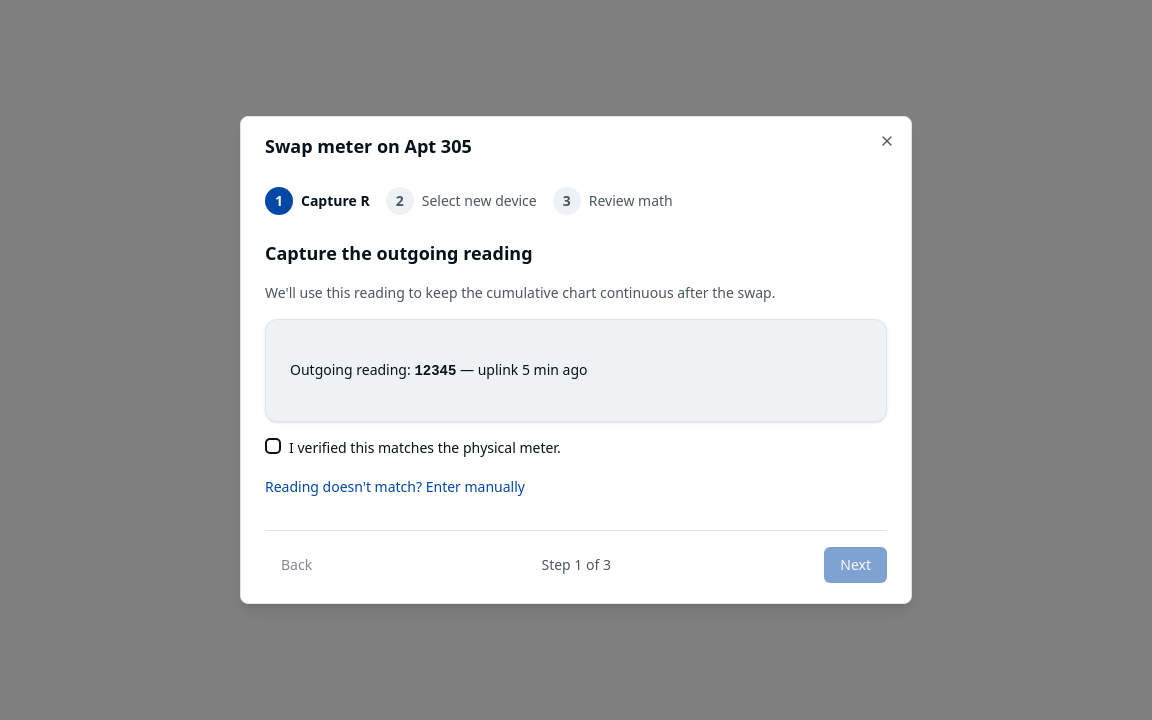
Test: SwapMeterDialog (Plan 02-14 / D-12 + D-13 + D-14) › step 3 renders the math read-back panel with R, N, and proposed offset
Expected: the text "Outgoing reading: 12345 — uplink 5 min ago" is shown, [290, 360, 588, 379]
Click the checkbox named "I verified this matches the physical meter".
click(273, 446)  # box [265, 438, 281, 454]
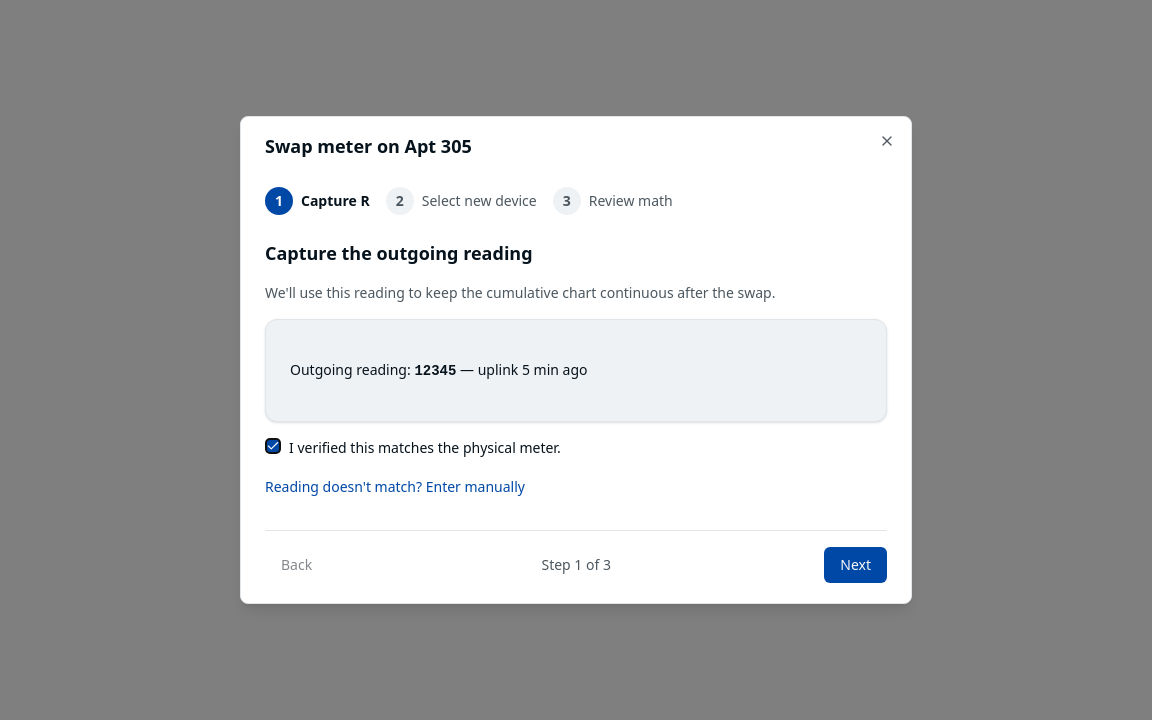
Click the button "Next".
click(856, 565)  # box [824, 547, 887, 583]
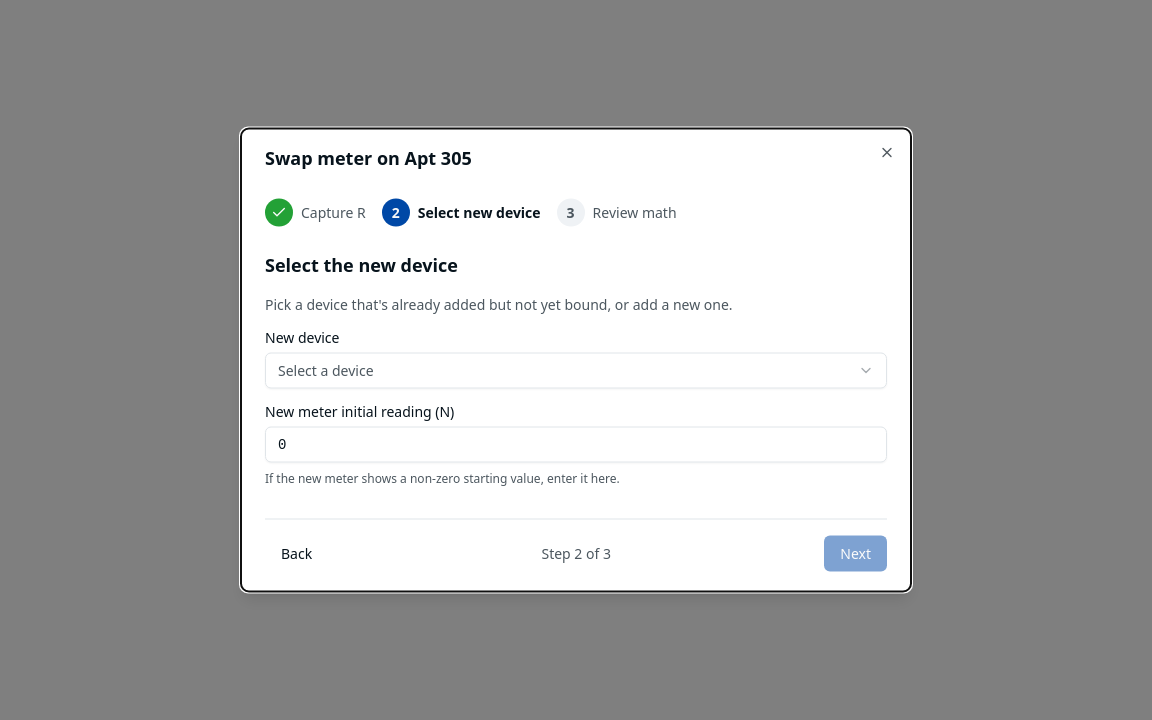
Expected: the heading "Select the new device" is shown, [265, 252, 458, 276]
Click the dropdown named "New device".
click(326, 370)  # box [265, 352, 887, 388]
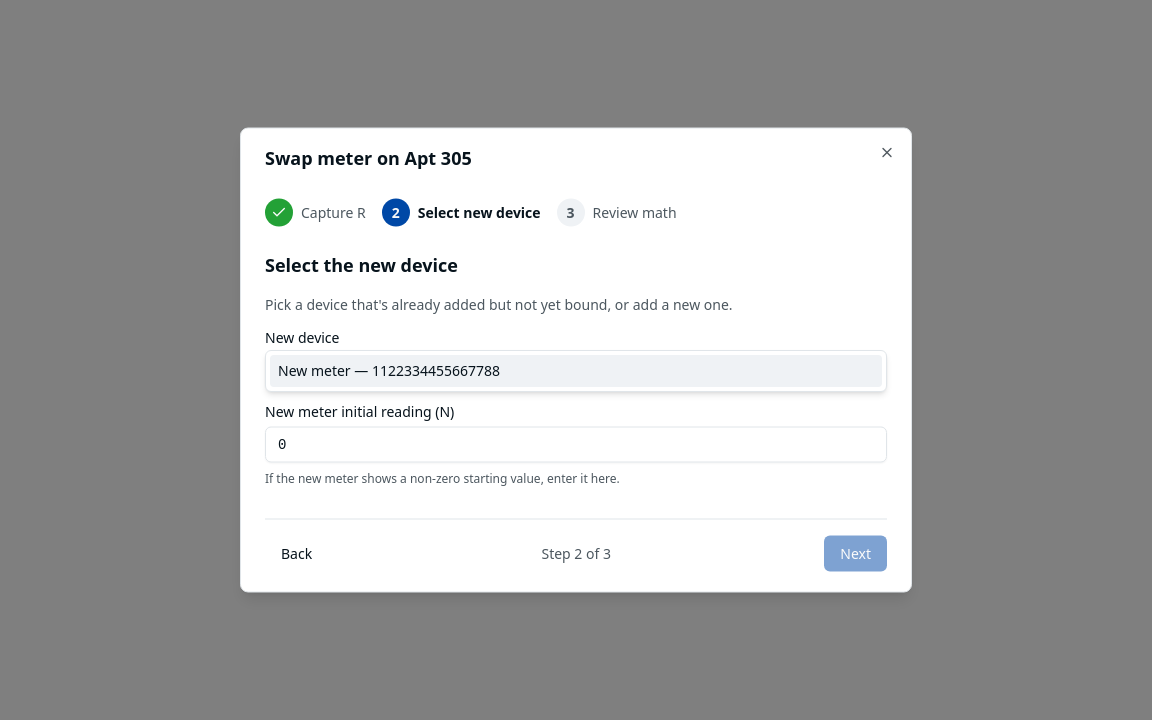
Click the option "New meter — 1122334455667788".
click(314, 370)  # box [270, 354, 882, 386]
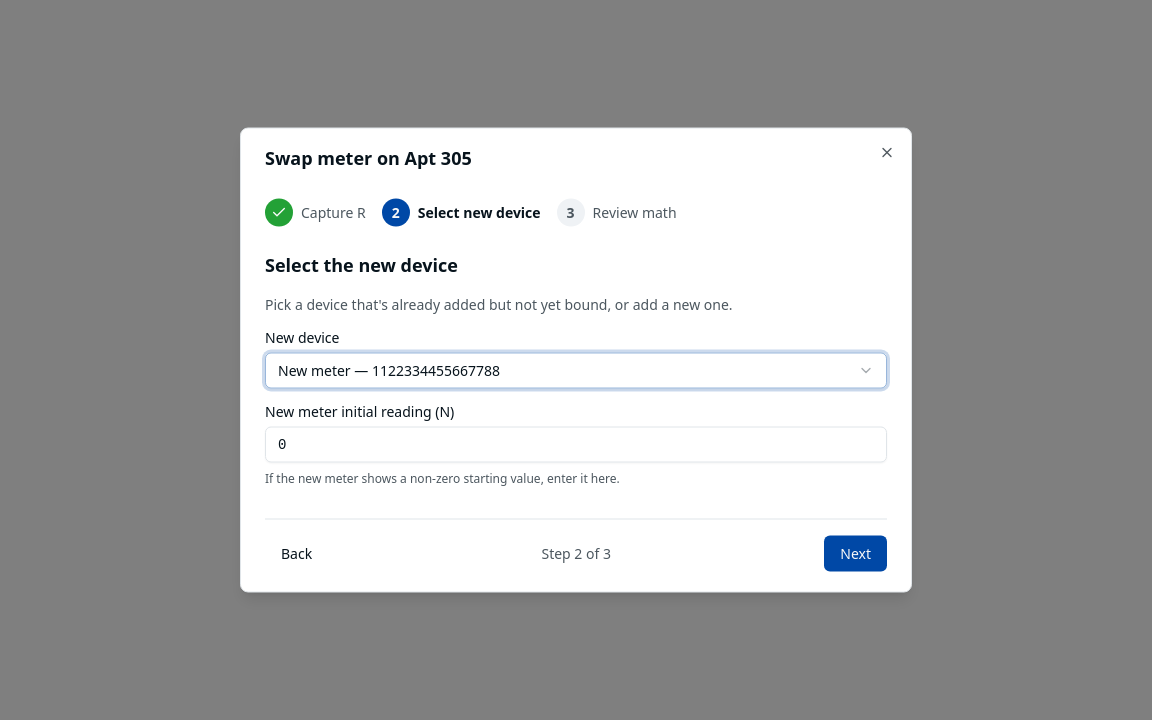
Click the button "Next".
click(856, 554)  # box [824, 536, 887, 572]
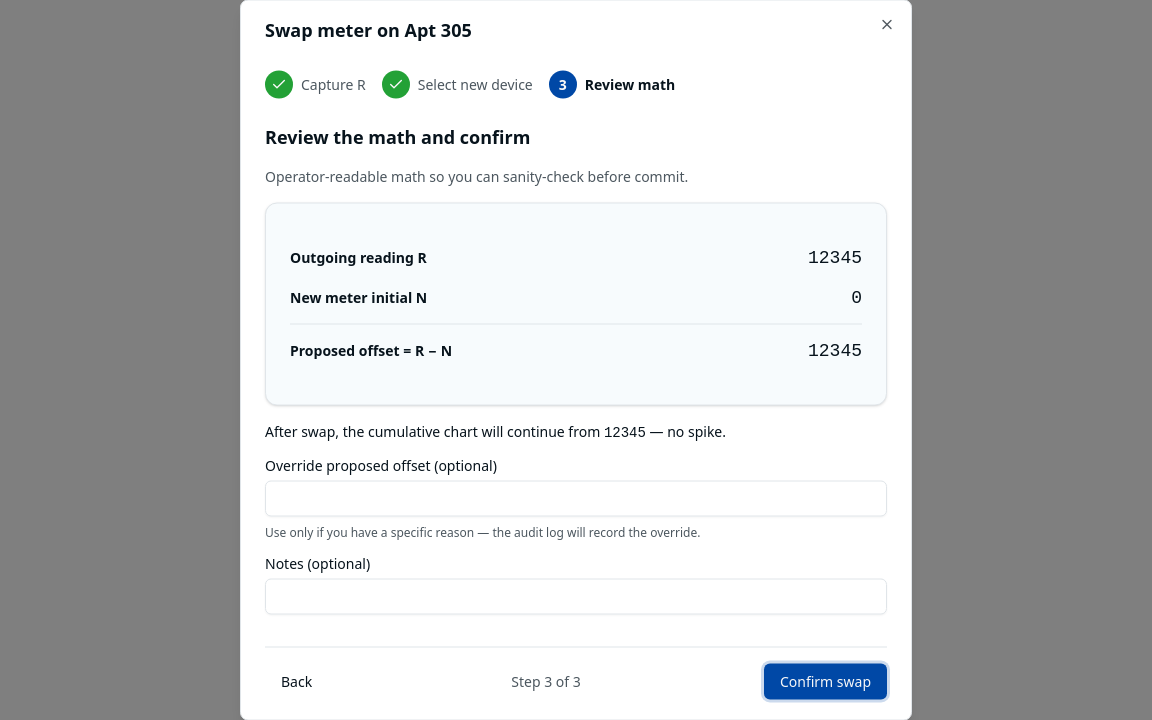
Expected: the heading "Review the math and confirm" is shown, [265, 124, 530, 148]
Expected: the text "Outgoing reading R" is shown, [290, 248, 427, 268]
Expected: the text "New meter initial N" is shown, [290, 288, 427, 308]
